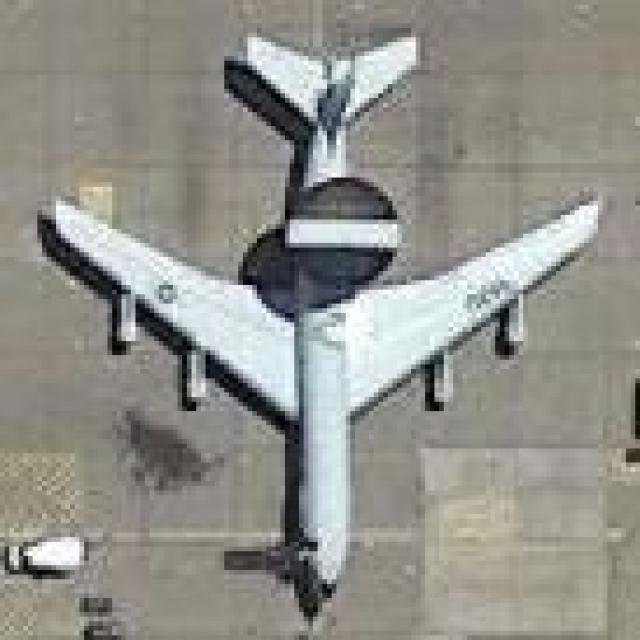E-3_TopDown: (28, 14, 603, 626)
